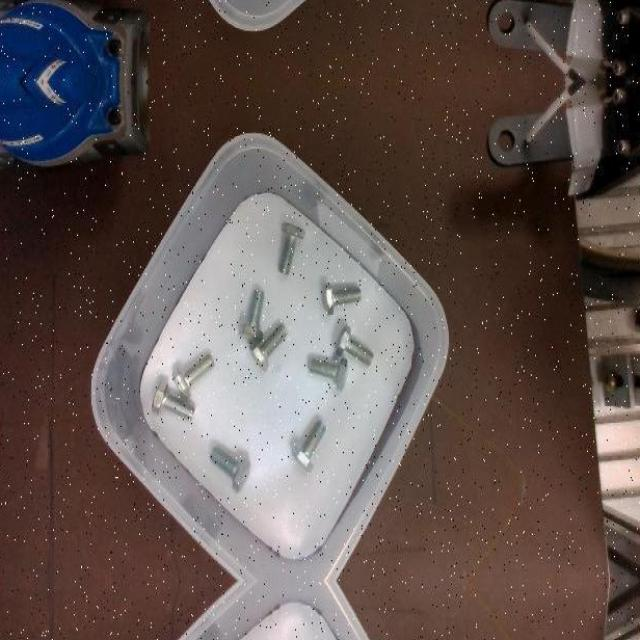screw: (174, 352, 215, 400), (210, 445, 250, 492), (251, 323, 289, 371), (292, 419, 327, 471), (152, 380, 195, 420), (336, 325, 375, 367), (278, 222, 306, 276), (239, 288, 266, 342), (310, 358, 348, 392), (323, 284, 362, 317)
